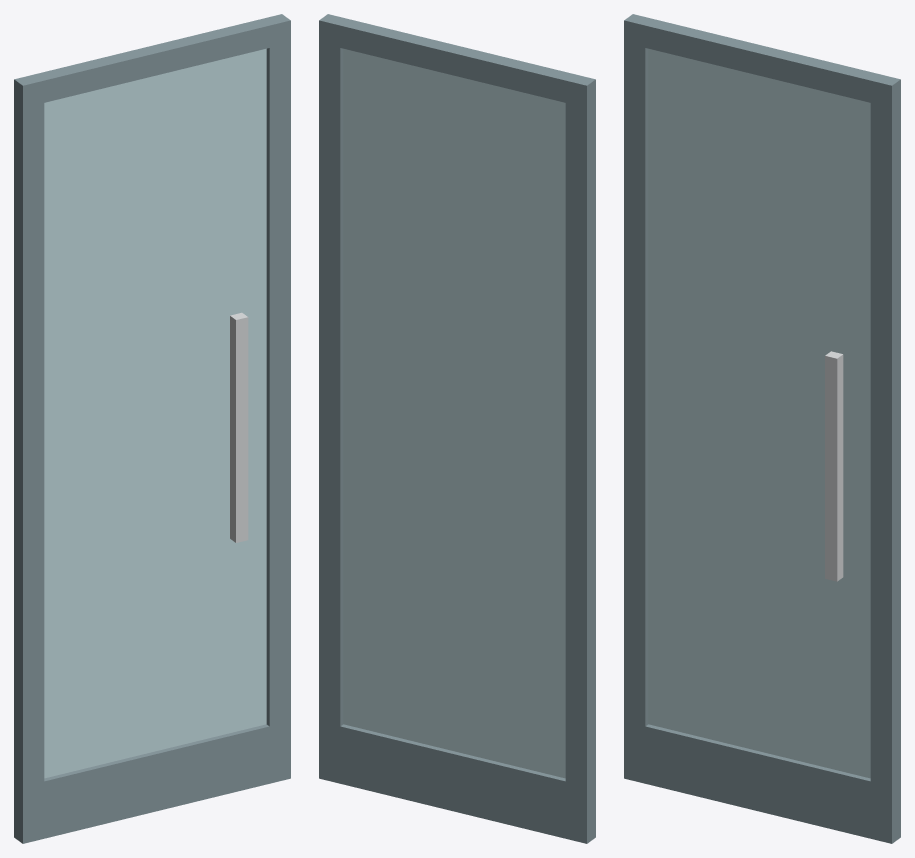
Rendered from door_leaf_glass.glb.
3 renders of one model, left to right at view 1: azimuth 30°, elevation 25°; view 2: azimuth 150°, elevation 25°; view 3: azimuth 330°, elevation 25°, orthographic.
Visible parts, largest first — view 1: door_leaf_glass_glass, door_leaf_glass_frame2, door_leaf_glass_metal; view 2: door_leaf_glass_glass, door_leaf_glass_frame2; view 3: door_leaf_glass_glass, door_leaf_glass_frame2, door_leaf_glass_metal.
Part boxes in pixels (x1=…): door_leaf_glass_glass: x1=44, y1=48, x2=266, y2=778; door_leaf_glass_frame2: x1=14, y1=14, x2=290, y2=843; door_leaf_glass_metal: x1=230, y1=312, x2=248, y2=542; door_leaf_glass_glass: x1=343, y1=48, x2=565, y2=778; door_leaf_glass_frame2: x1=319, y1=14, x2=595, y2=843; door_leaf_glass_glass: x1=648, y1=48, x2=870, y2=778; door_leaf_glass_frame2: x1=624, y1=14, x2=900, y2=843; door_leaf_glass_metal: x1=825, y1=351, x2=843, y2=581.
Bounding box in the file's own units: 0.88 × 2.38 × 0.085.
